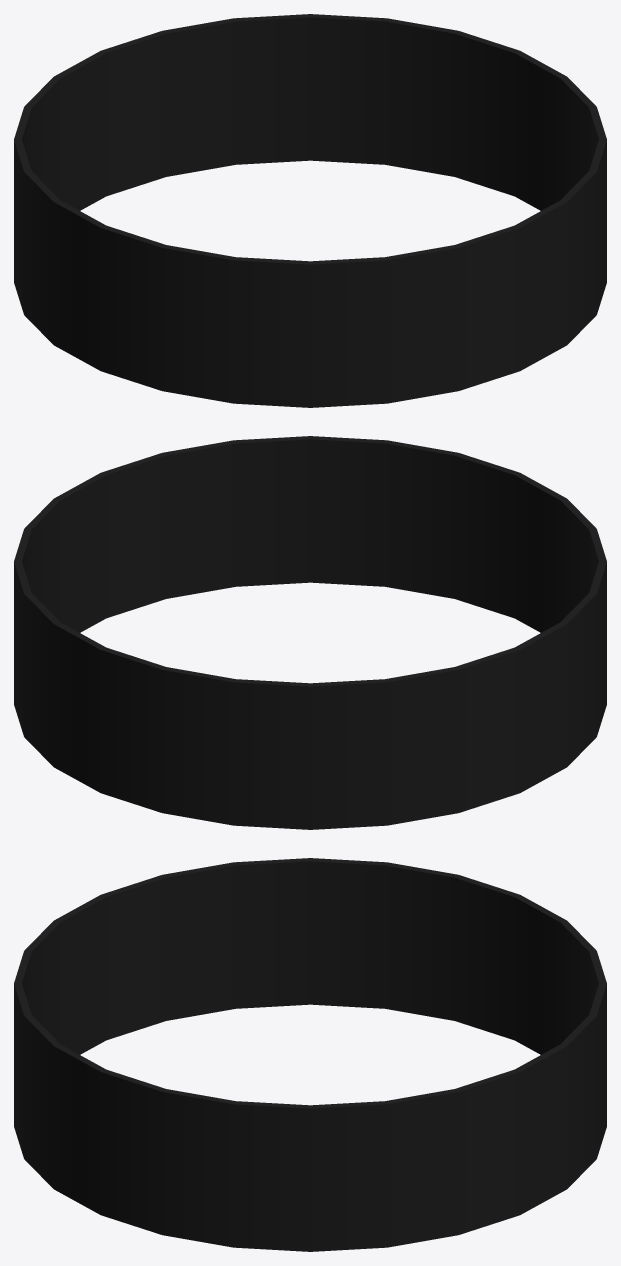
The model's file is aquarius_engine_mount_s1p5_1_fairing1.obj.
3 views of the same model, one above another, from view 1: azimuth 30°, elevation 25°; view 2: azimuth 150°, elevation 25°; view 3: azimuth 270°, elevation 25° (orthographic).
Visible parts, largest first — view 1: fairing1; view 2: fairing1; view 3: fairing1.
Part boxes in pixels (<box>): fairing1: <box>14,14,606,407</box>; fairing1: <box>14,436,606,829</box>; fairing1: <box>14,858,606,1251</box>.
Bounding box in the file's own units: 1.88 × 0.5 × 1.88.
